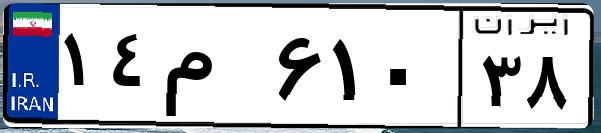0: (385, 28, 445, 110)
1: (330, 28, 385, 110), (57, 26, 110, 100)
3: (475, 38, 525, 113)
4: (110, 28, 158, 98)
6: (270, 28, 330, 110)
8: (525, 38, 570, 115)
م: (158, 20, 270, 120)
